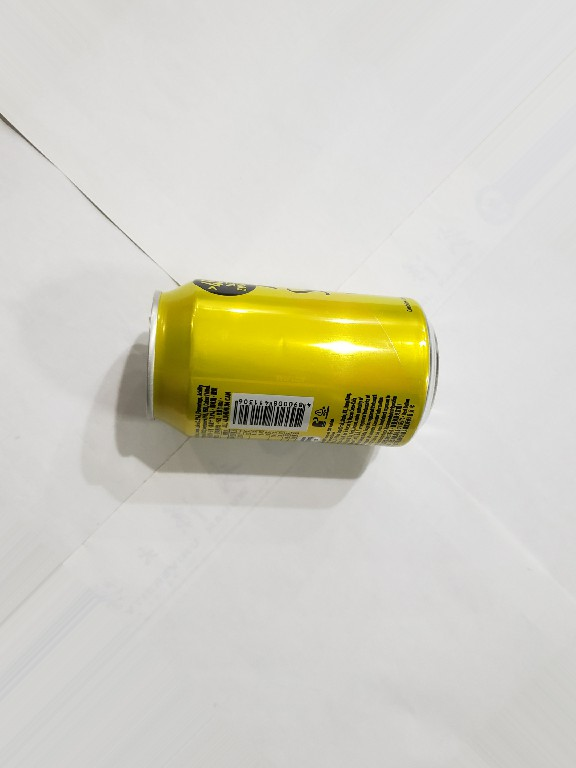can: (139, 278, 446, 451)
